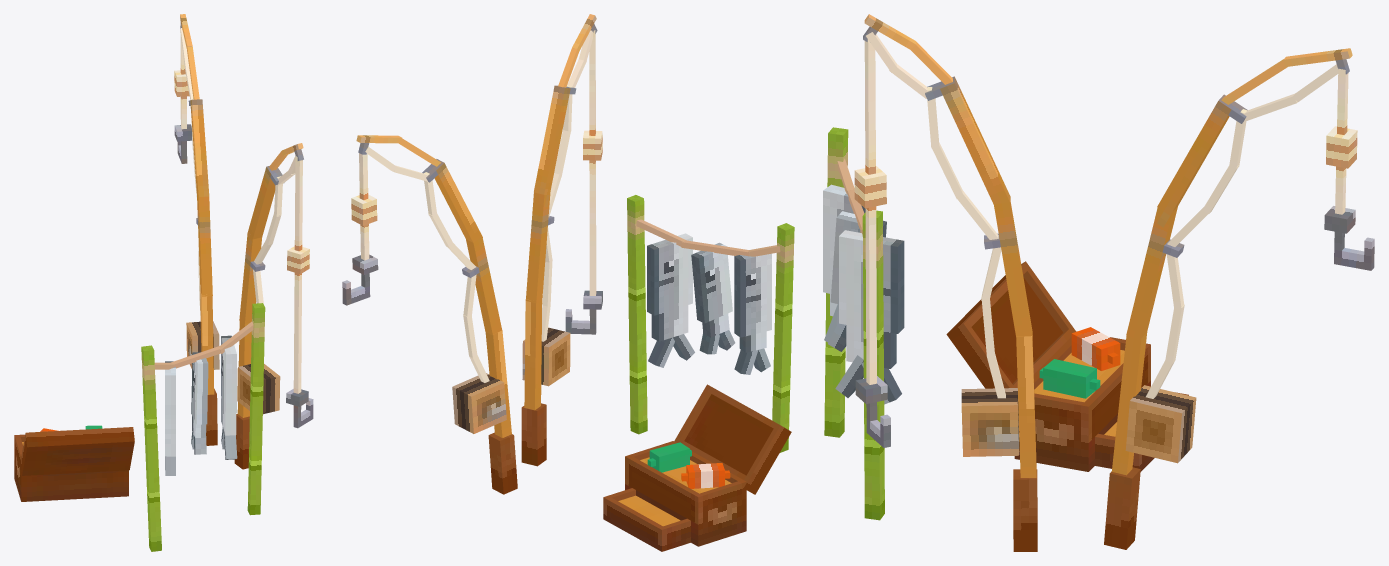
Rendered from deco_fishpoles.glb.
The picture shows the model from 3 angles, left to right: view 1: azimuth 30°, elevation 25°; view 2: azimuth 150°, elevation 25°; view 3: azimuth 270°, elevation 25°; orthographic projection. The views are drawn at different scales.
Visible parts, largest first — view 1: cover-Local, tacklebox-Local, fishingline-13-Local, fishstike1-Local, fishstike2-Local, fishpole-1-3-Local, fishpole-1-2-Local, fishingline-2-Local, fish-b-Local, circle-Local, fish-c-Local, fishpole-1-4$$(1)-Local (+7 smaller); view 2: tacklebox-Local, cover-Local, fishstike1-Local, fish-b-Local, fishingline-2-Local, fishstike2-Local, fishpole-1-3-Local, fish-d-Local, fishingline-13-Local, fishpole-1-2-Local, fish-c-Local, circle$$(1)-Local (+9 smaller); view 3: tacklebox-Local, fishingline-2-Local, cover-Local, fishingline-13-Local, fish-b-Local, fishpole-1-3-Local, fishpole-1-2-Local, circle$$(1)-Local, fishingline-13$$(1)-Local, circle-Local, fishstike1-Local, fishstike2-Local (+12 smaller).
Part boxes in pixels (<box>): cover-Local: <box>20,427,134,475</box>; tacklebox-Local: <box>14,434,128,501</box>; fishingline-13-Local: <box>286,156,313,428</box>; fishstike1-Local: <box>247,303,265,515</box>; fishstike2-Local: <box>141,345,161,551</box>; fishpole-1-3-Local: <box>196,194,265,325</box>; fishpole-1-2-Local: <box>200,292,251,417</box>; fishingline-2-Local: <box>180,28,282,315</box>; fish-b-Local: <box>221,335,236,435</box>; circle-Local: <box>237,364,280,414</box>; fish-c-Local: <box>191,352,208,437</box>; fishpole-1-4$$(1)-Local: <box>188,99,209,197</box>; tacklebox-Local: <box>603,441,746,551</box>; cover-Local: <box>674,384,791,494</box>; fishstike1-Local: <box>627,195,647,434</box>; fish-b-Local: <box>647,233,692,341</box>; fishingline-2-Local: <box>365,85,572,382</box>; fishstike2-Local: <box>772,223,794,452</box>; fishpole-1-3-Local: <box>462,192,554,335</box>; fish-d-Local: <box>734,253,771,352</box>; fishingline-13-Local: <box>565,30,602,334</box>; fishpole-1-2-Local: <box>485,299,542,437</box>; fish-c-Local: <box>691,242,732,337</box>; circle$$(1)-Local: <box>452,373,506,433</box>; tacklebox-Local: <box>1014,337,1188,471</box>; fishingline-2-Local: <box>927,64,1338,398</box>; cover-Local: <box>946,261,1076,388</box>; fishingline-13-Local: <box>854,39,890,447</box>; fish-b-Local: <box>839,230,904,368</box>; fishpole-1-3-Local: <box>984,202,1184,340</box>; fishpole-1-2-Local: <box>1016,332,1147,477</box>; circle$$(1)-Local: <box>1125,385,1196,463</box>; fishingline-13$$(1)-Local: <box>1324,68,1374,270</box>; circle-Local: <box>961,388,1019,456</box>; fishstike1-Local: <box>862,210,884,520</box>; fishstike2-Local: <box>824,127,848,437</box>.
Size of the model in its own units: 59.31 by 73.33 by 68.83.
Materials: 34 (34 with a texture image).
